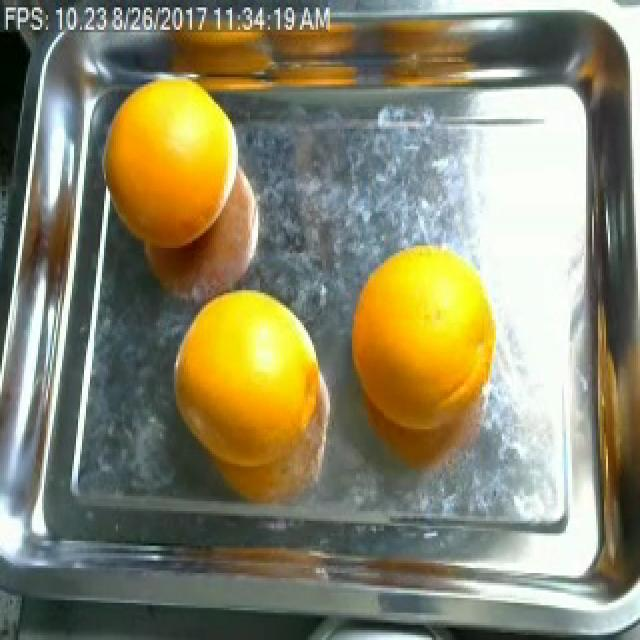Fruit: (158, 273, 342, 474), (338, 230, 514, 422), (94, 62, 248, 265)
